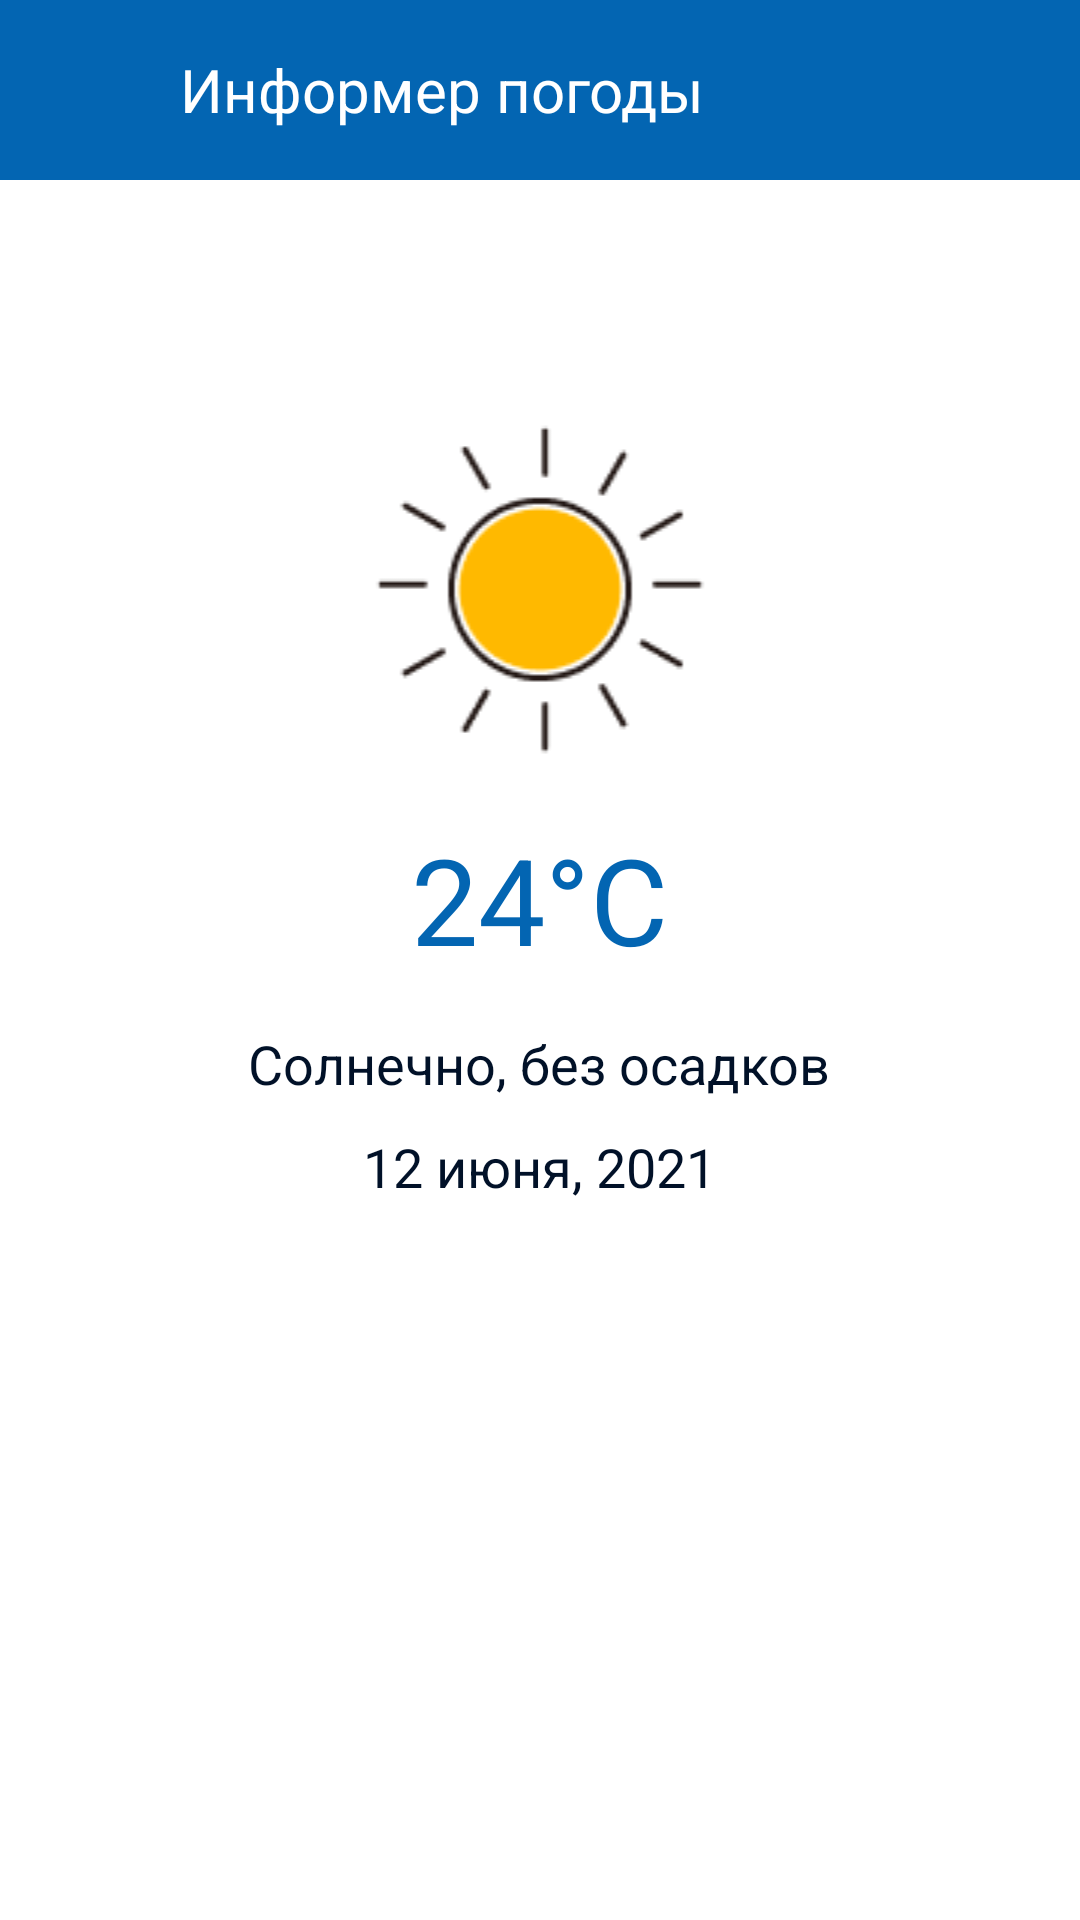

Locate icon controls on the screen. Image size 1080 × 1920, boxes as (x1, y1, x2, y2).
sun solnce: (378, 427, 703, 753)
